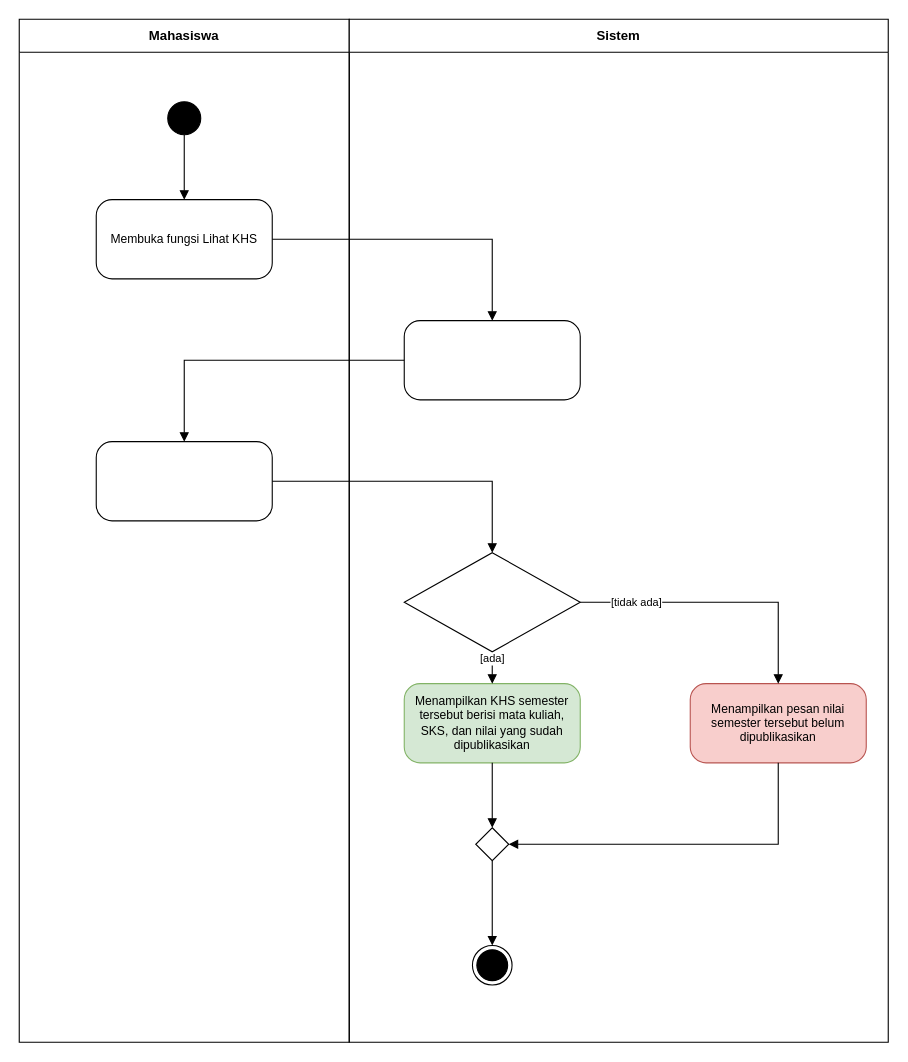
This 908x1062 diagram has some shape labels left out. The box of each missing label's shape, as (x1, y1, x2, y2) in pixels:
Ada nilai yang sudah dipublikasikan?: (403, 552, 580, 652)
Memilih semester: (95, 441, 272, 521)
Menampilkan daftar semester yang diikuti mahasiswa: (403, 320, 580, 400)
